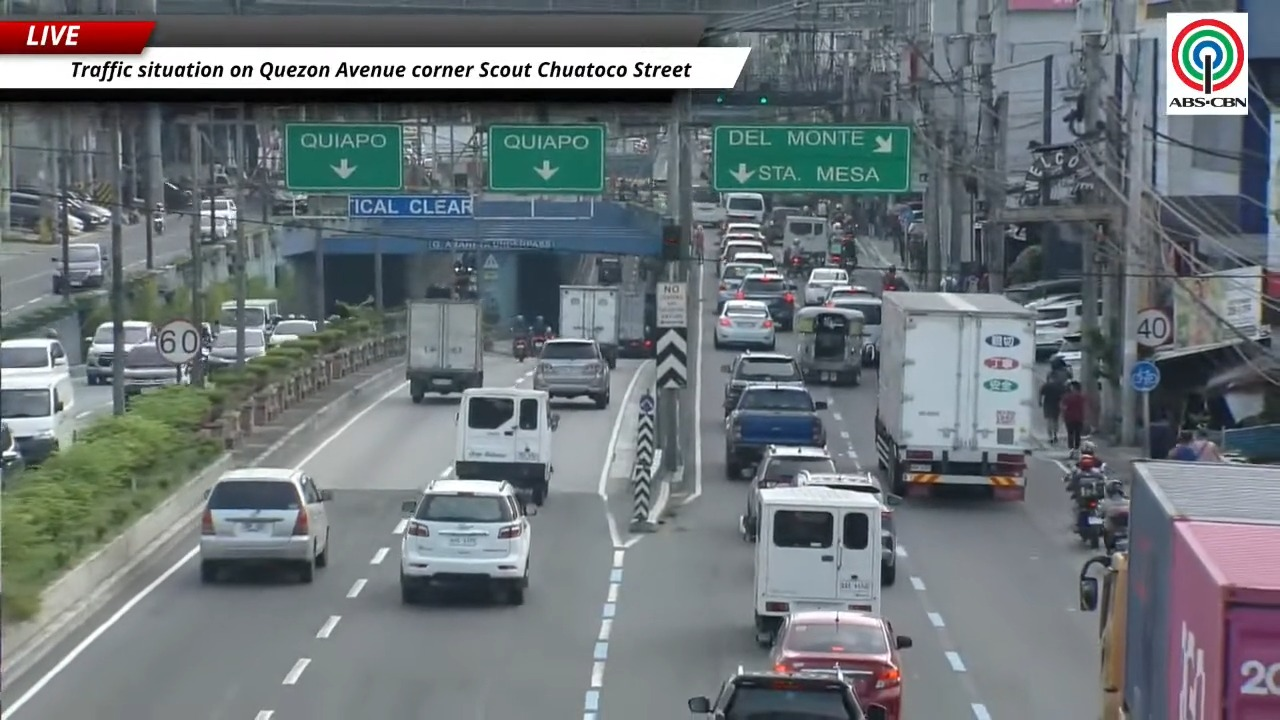car: (399, 479, 535, 604), (199, 467, 331, 583), (771, 610, 911, 719), (796, 468, 900, 585), (687, 667, 889, 719), (725, 384, 826, 479), (742, 445, 836, 541), (533, 338, 610, 408), (722, 352, 803, 416), (734, 272, 795, 331), (123, 344, 189, 396), (713, 300, 775, 350), (1035, 299, 1083, 358), (51, 243, 106, 293), (0, 338, 68, 377), (715, 262, 763, 313), (1003, 277, 1082, 305), (85, 322, 114, 384), (803, 267, 848, 305), (719, 237, 766, 268), (198, 197, 237, 231), (268, 318, 317, 345), (206, 326, 237, 365), (824, 285, 876, 304), (272, 187, 307, 214), (198, 214, 230, 242), (735, 252, 779, 272), (596, 256, 622, 284), (723, 222, 763, 239)
motorcycle: (1070, 470, 1108, 548), (1100, 480, 1128, 552), (787, 255, 806, 278), (861, 342, 878, 366), (150, 210, 166, 235), (530, 328, 546, 351), (513, 337, 527, 361)
truck: (1106, 461, 1279, 719), (874, 292, 1037, 500), (1079, 551, 1128, 719), (405, 299, 483, 403), (558, 285, 620, 368), (619, 288, 653, 359)
